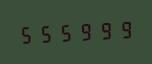five: (17, 23, 35, 46), (36, 22, 54, 45), (56, 21, 74, 44)
nine: (75, 20, 93, 43), (94, 19, 112, 42), (113, 18, 131, 41)
